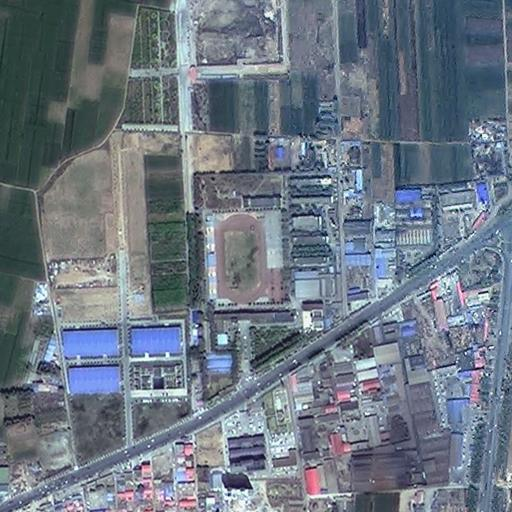school: (193, 198, 338, 399)
